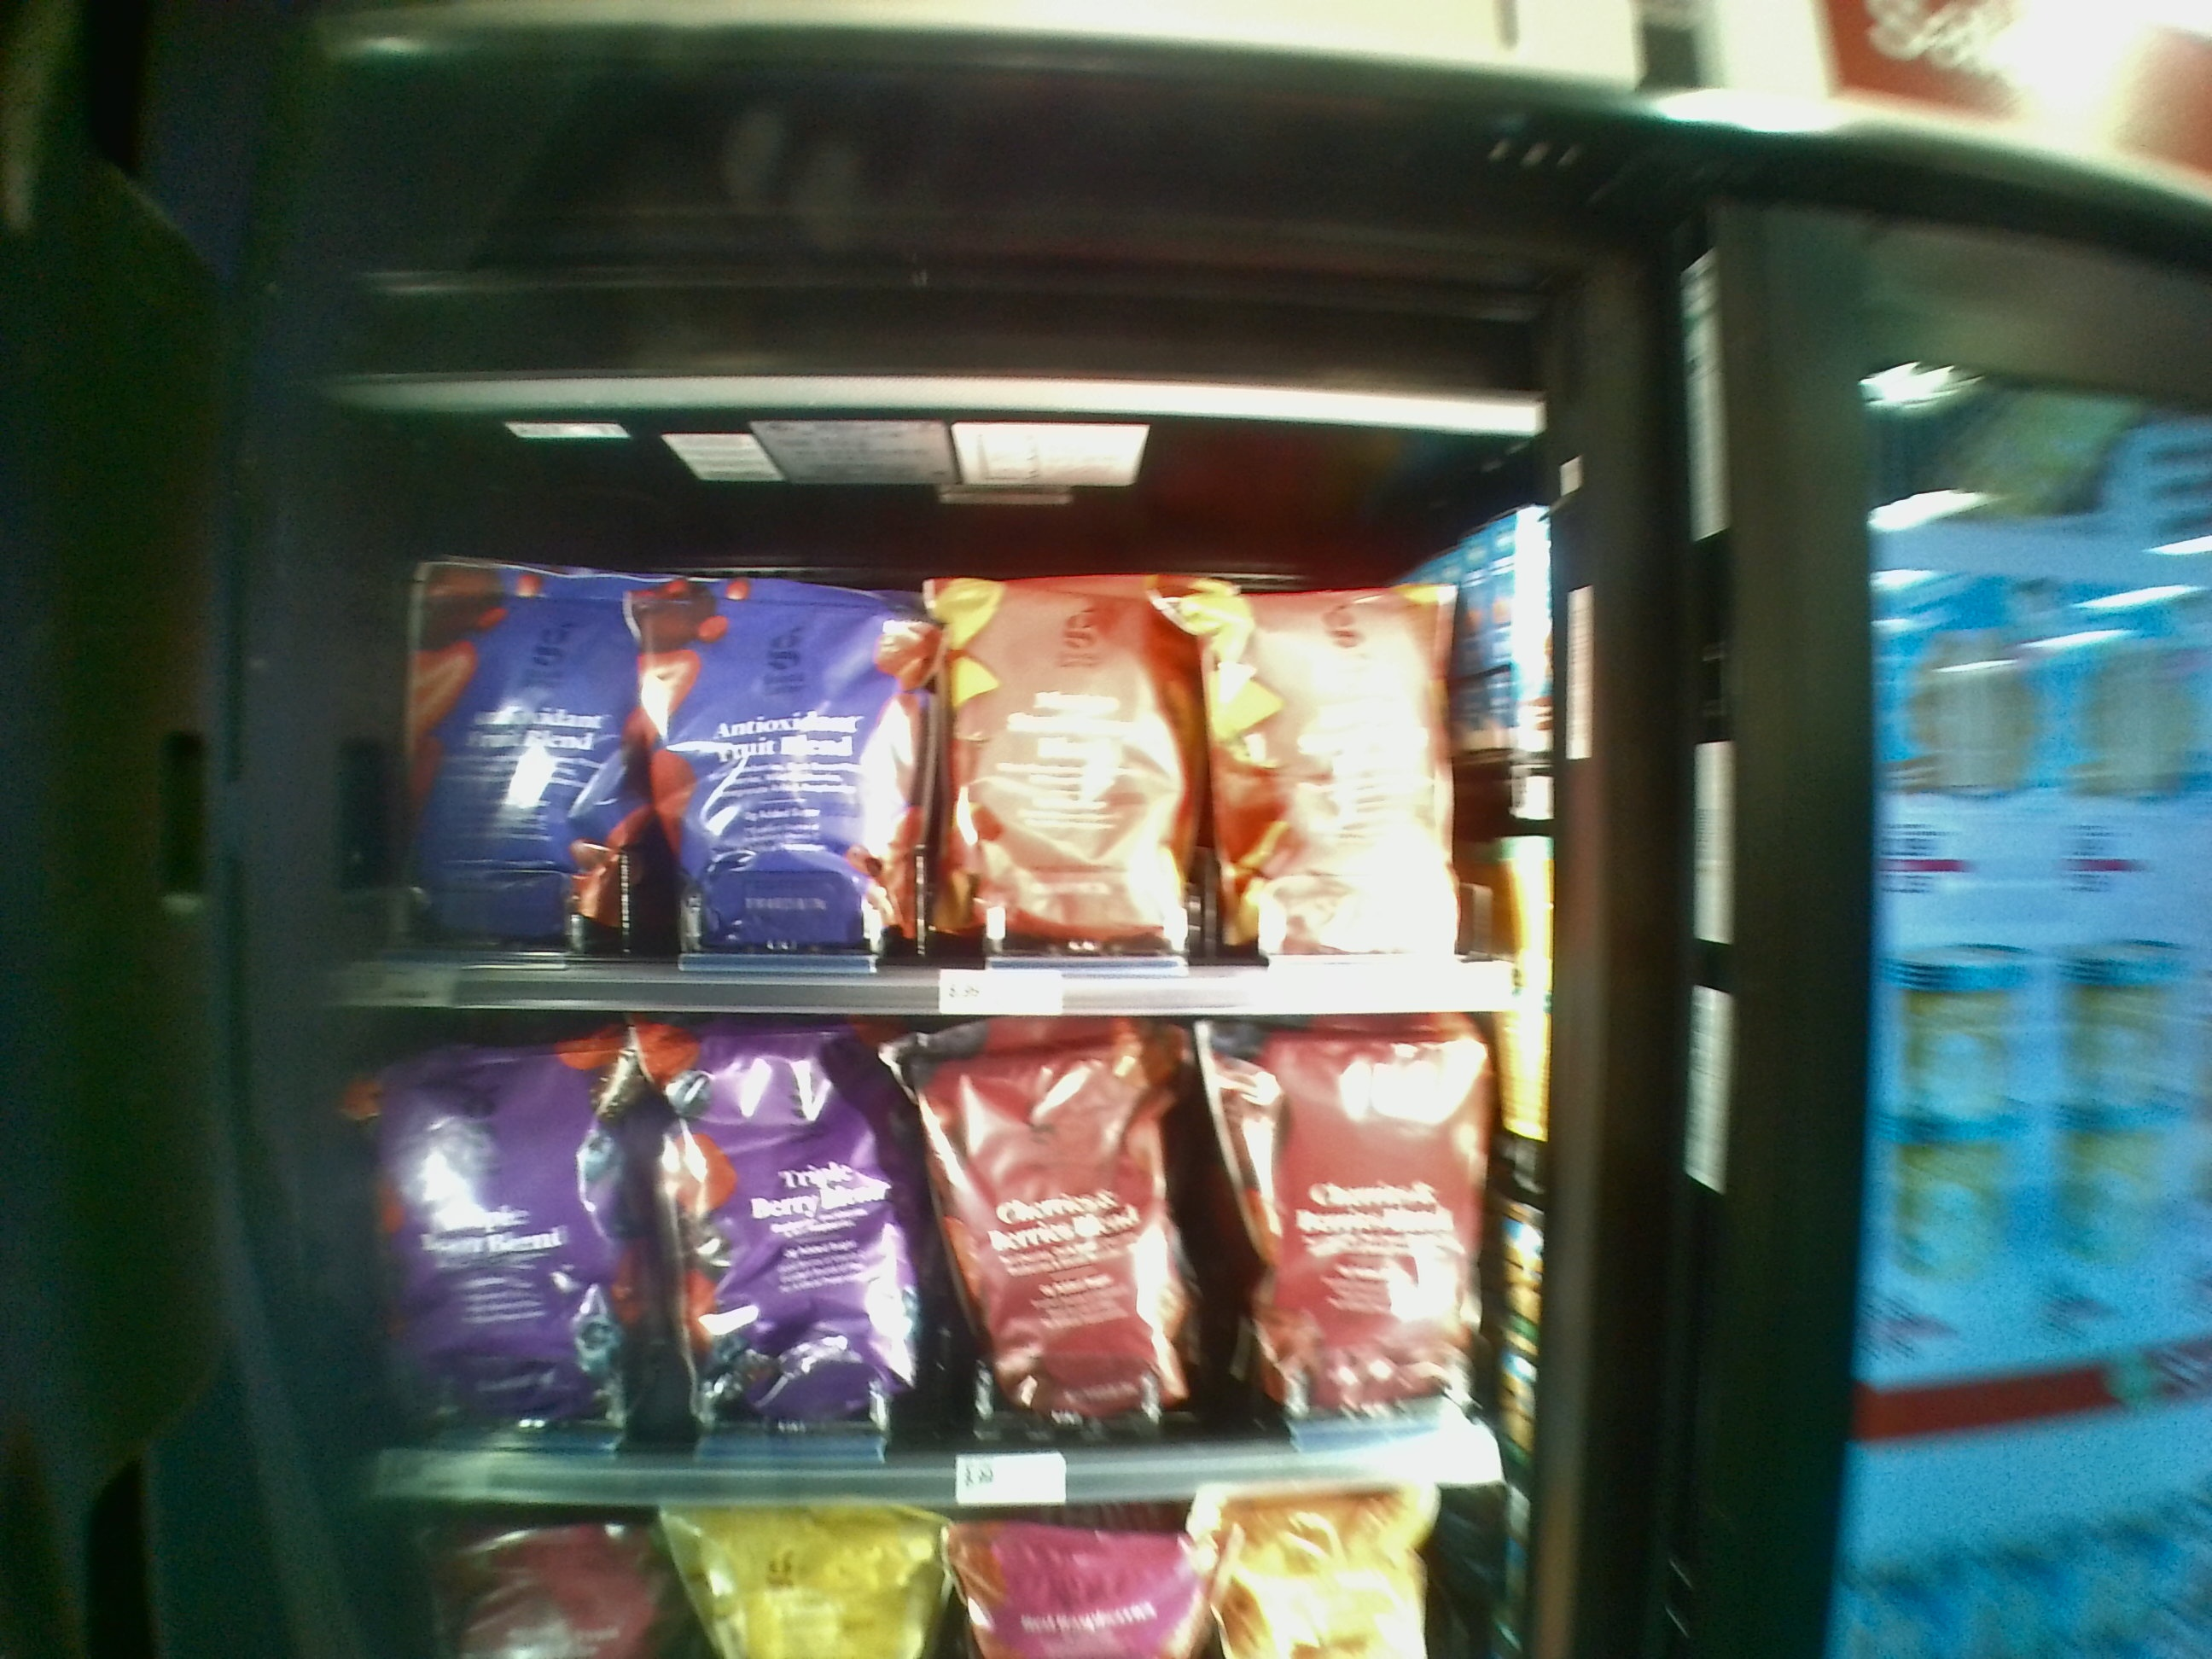shelf: (341, 413, 1533, 1012), (345, 1018, 1524, 1493)
